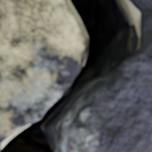broken_brick: (66, 0, 151, 151), (0, 0, 81, 139)
crack: (0, 0, 150, 151)
